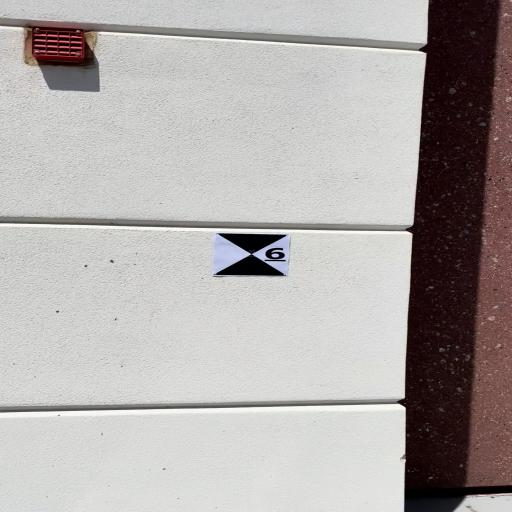target6: (213, 233, 289, 275)
